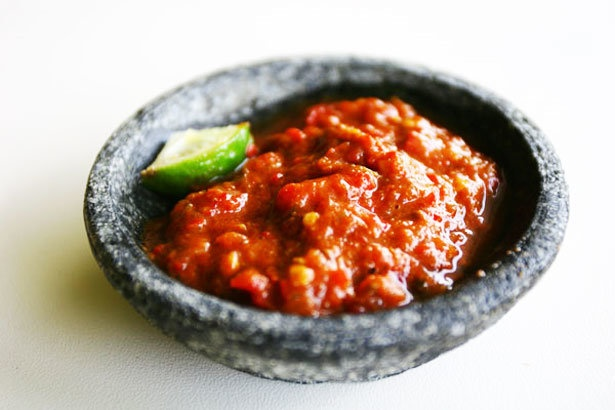sambal: (156, 96, 493, 309)
